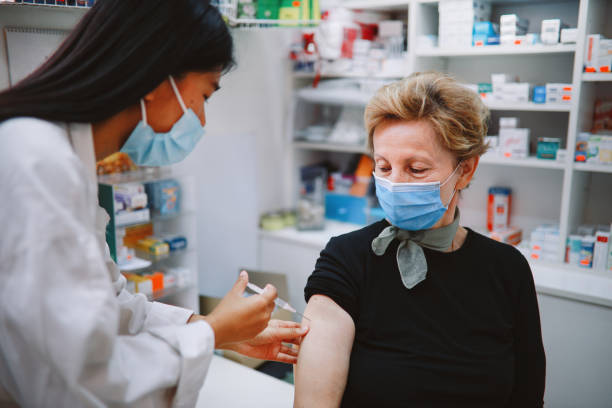with mask: (361, 109, 479, 238), (118, 46, 236, 175)
